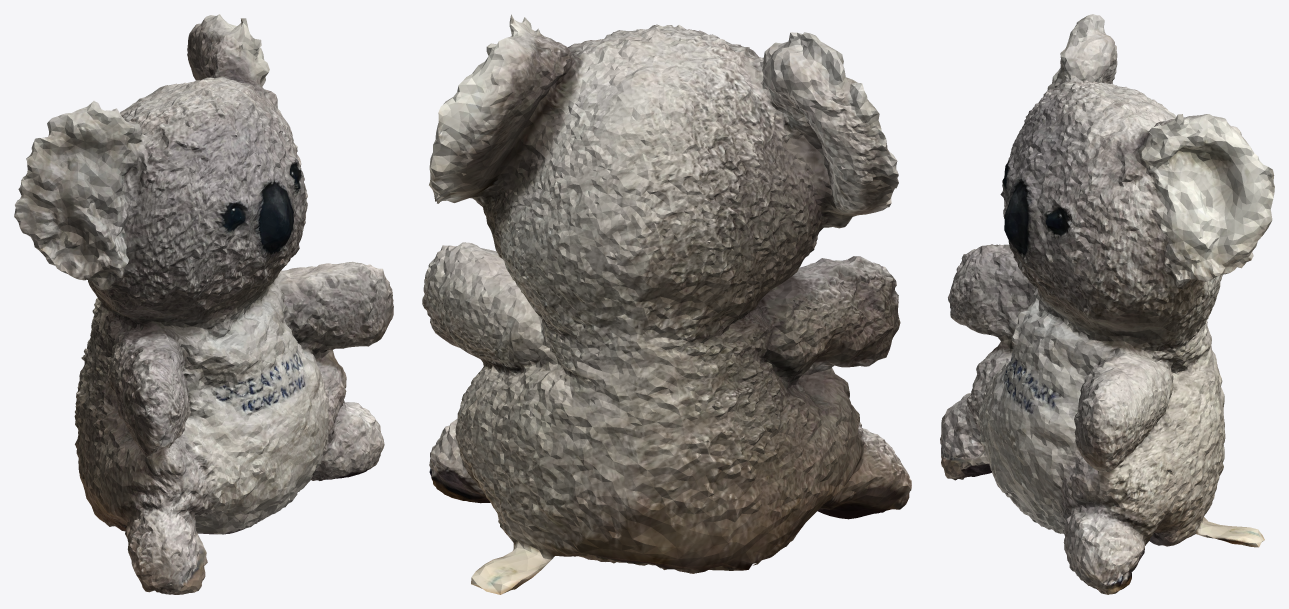
The model's file is kiwi.glb.
3 renders of one model, left to right at view 1: azimuth 30°, elevation 25°; view 2: azimuth 150°, elevation 25°; view 3: azimuth 270°, elevation 25°, orthographic. The views are drawn at different scales.
Size of the model in its own units: 0.228 by 0.2552 by 0.1737.
1 material, 1 textured.
